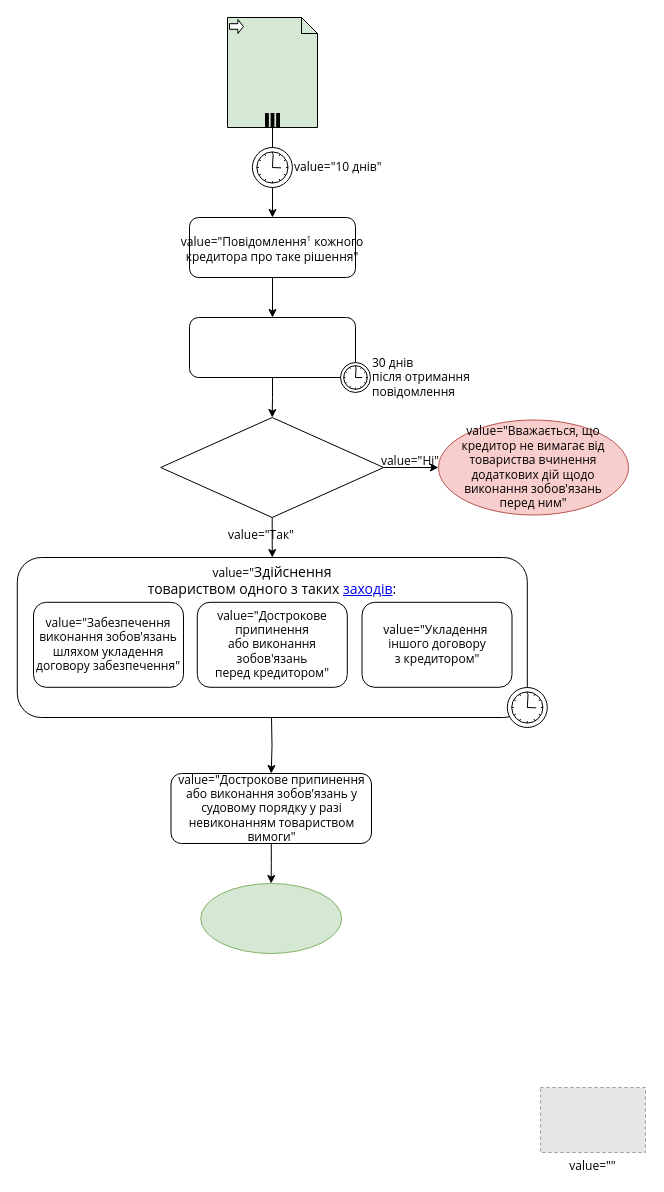
Image size: 664x1192. Some labels were removed from this diagram. Grey dashed boxes stand in for pictures. Each missing label, with the centre of its shape:
value=" Звернення кредитора з письмовою вимогою до товариства": (x=272, y=347)
value="30 днів": (x=526, y=707)
value="Зменшення статутного капіталу": (x=271, y=918)
value="Рішення про зменшення статутного капіталу товариства": (x=272, y=72)
value="Чи звернувся кредитор з письмовою вимогою у встановлений строк?": (x=272, y=467)
